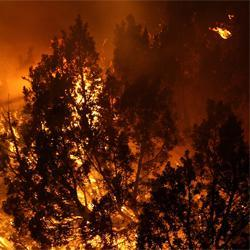fire: (77, 72, 97, 111), (79, 181, 106, 207), (212, 26, 231, 38)
